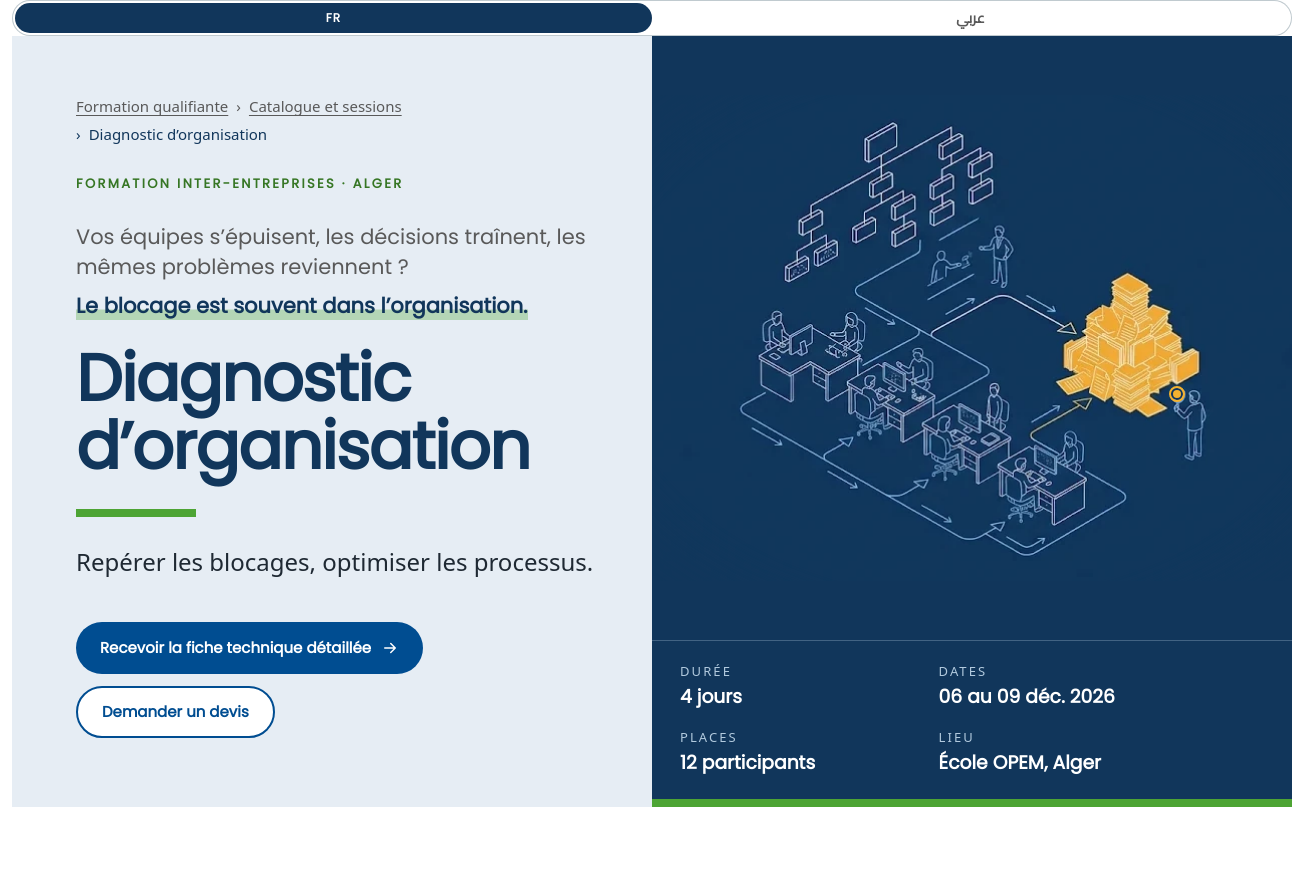
Test: Page d’une formation (modèle unique) › « Demander un devis » coche la demande de devis dans le formulaire
Step 1. Click the link "Demander un devis" → (175, 712), box [76, 686, 275, 738]
(page scrolled)
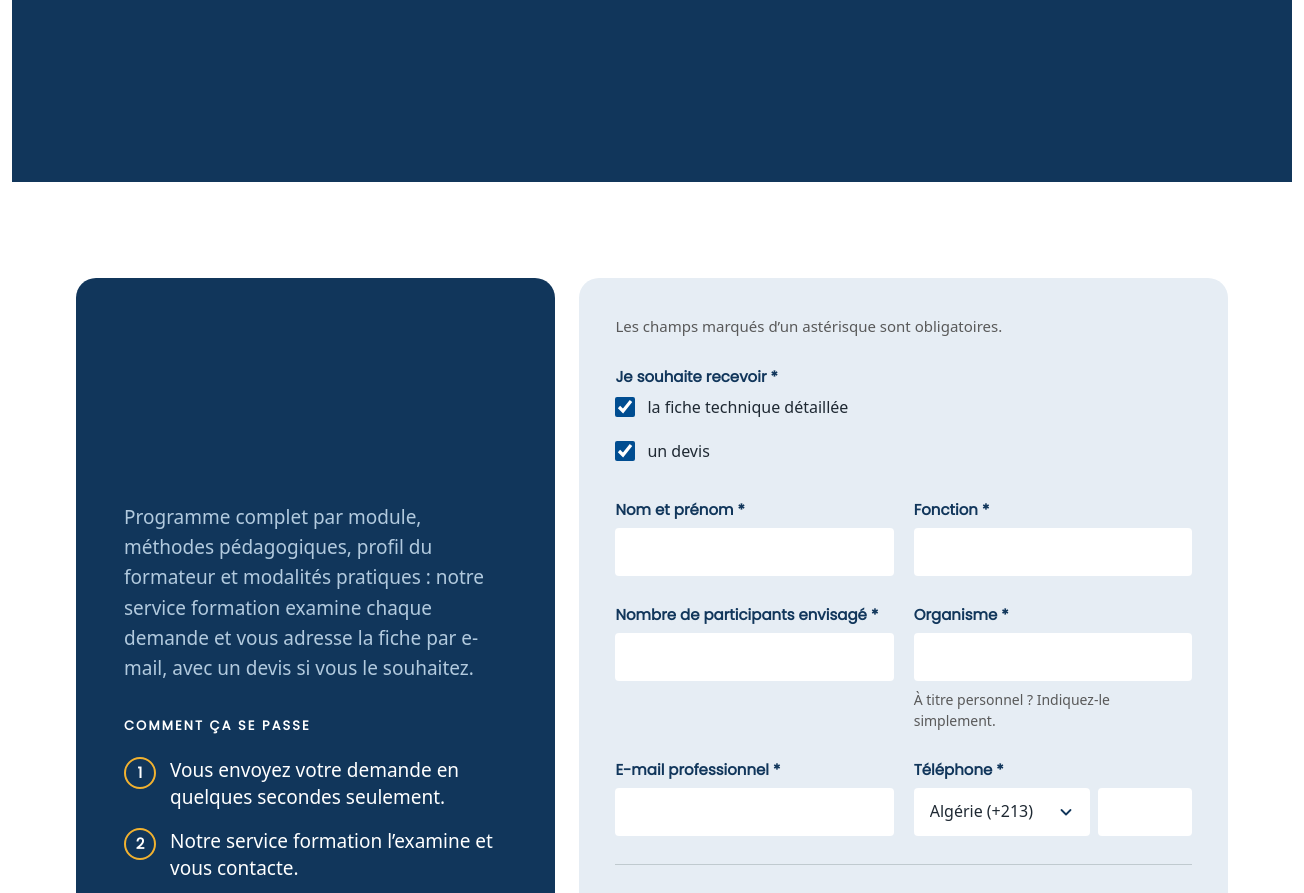
Now the checkbox labelled "un devis" is checked, box [615, 440, 635, 460]
